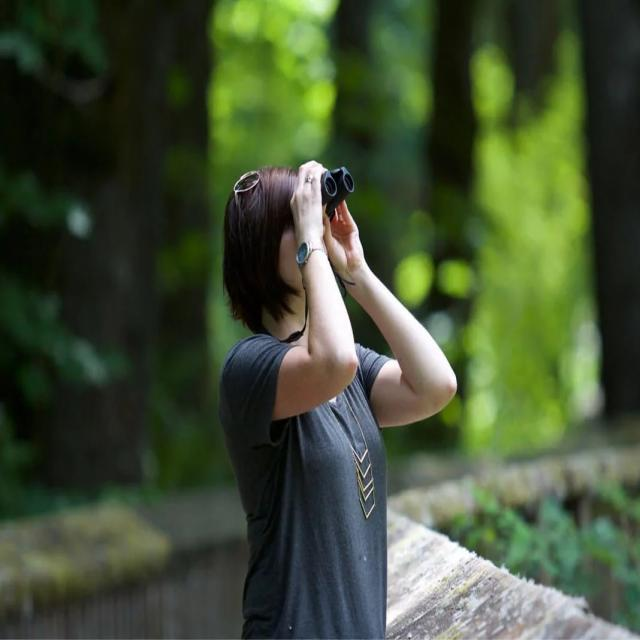Binocular: (297, 149, 371, 216)
